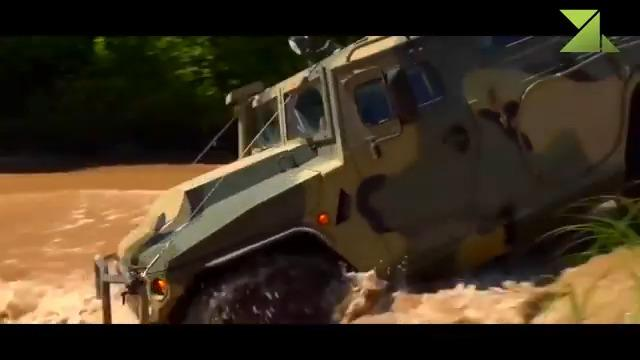MIL_HMMWV: (92, 34, 640, 326)
